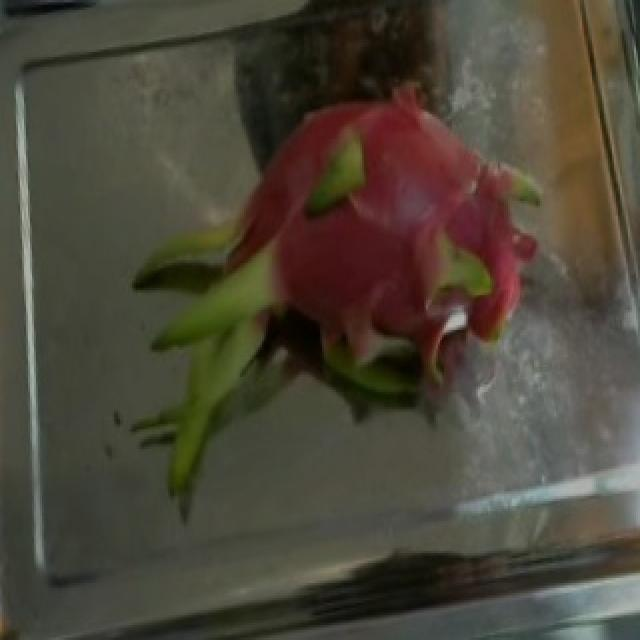fruit: (132, 42, 566, 489)
